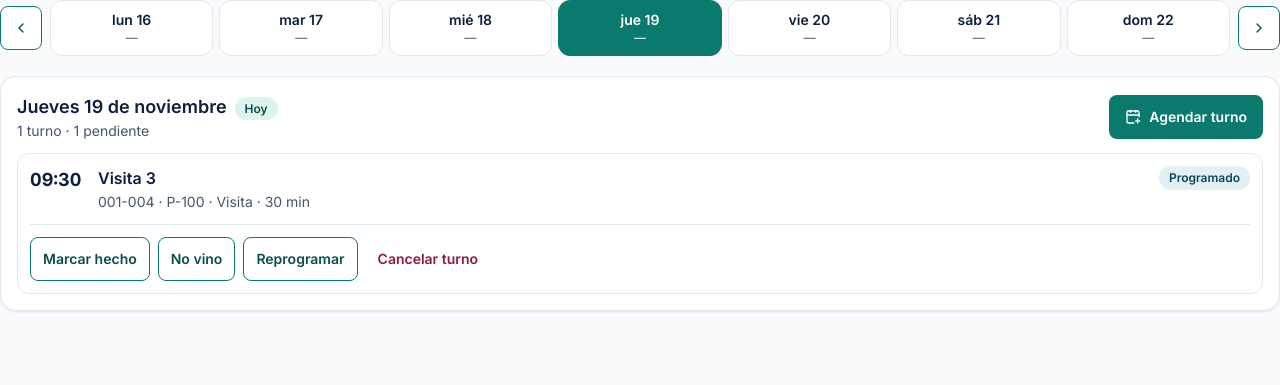
Test: AgendaBoard › si el servidor rechaza (403), avisa y no recarga
This screenshot has width=1280, height=385.
Click the button "Marcar hecho" at (90, 259), box [30,237,150,281]
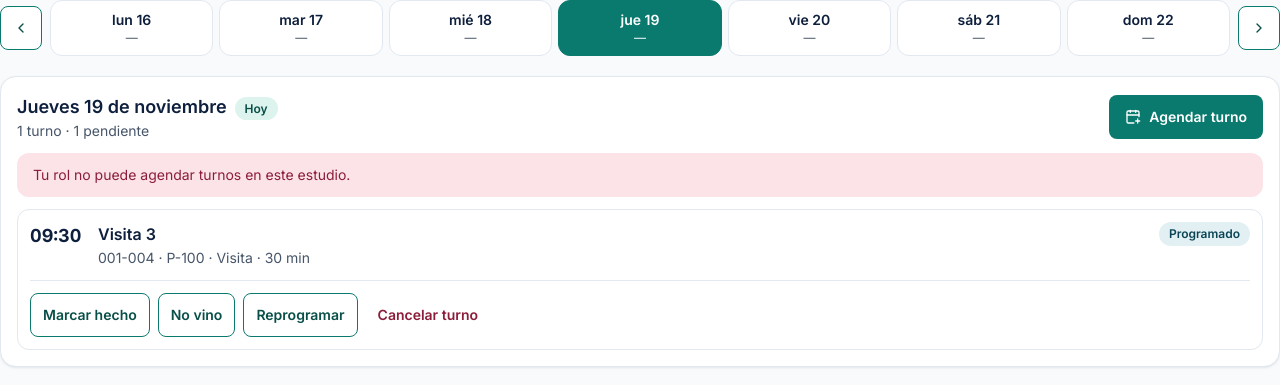
Expected: the text "Tu rol no puede agendar" is shown, [33,166,350,183]
